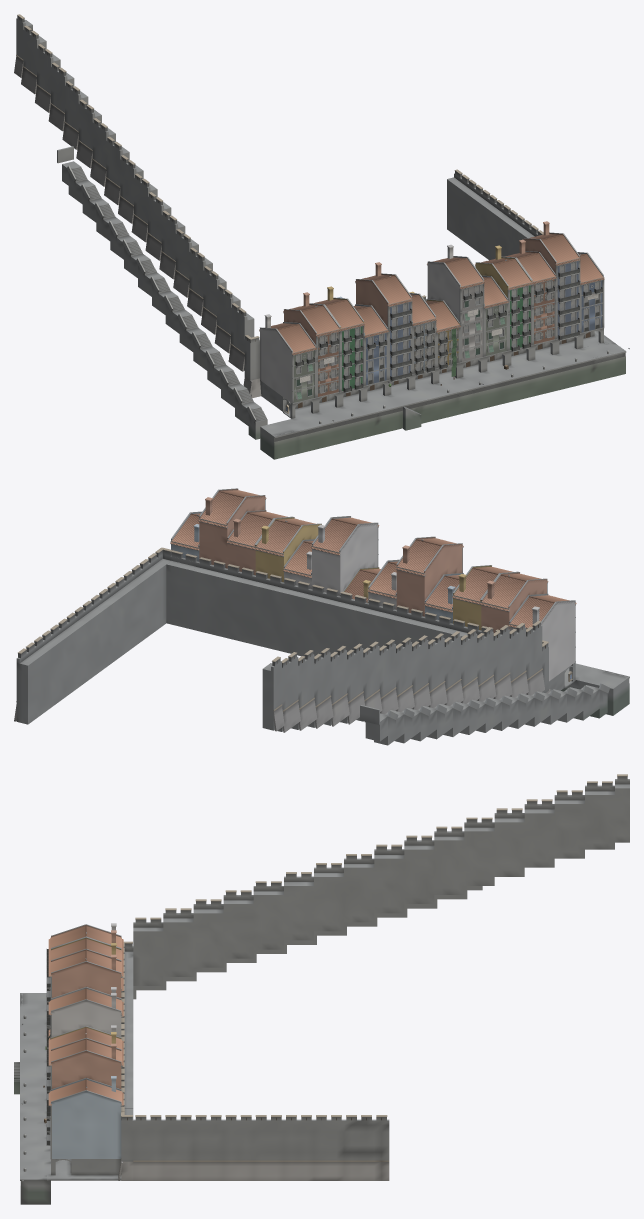
File: ribeira.glb
The picture shows the model from 3 angles, top to bottom: view 1: azimuth 30°, elevation 25°; view 2: azimuth 150°, elevation 25°; view 3: azimuth 270°, elevation 25°; orthographic projection. The views are drawn at different scales.
Visible parts, largest first — view 1: merged_ribeira_open_-6_-2, merged_ribeira_open_-6_-1, merged_ribeira_open_-6_-3, merged_ribeira_open_-4_-1, merged_ribeira_open_-5_-1, casa_b.001, merged_ribeira_open_-3_-2, casa_g.001, casa_c.001, merged_ribeira_open_-6_-4, casa_c.002, casa_a.002 (+9 smaller); view 2: merged_ribeira_open_-4_-1, merged_ribeira_open_-3_-2, merged_ribeira_open_-6_-2, merged_ribeira_open_-6_-3, merged_ribeira_open_-6_-4, merged_ribeira_open_-5_-1, merged_ribeira_open_-6_-1, casa_g.001, casa_c.001, casa_b.001, merged_ribeira_open_-3_-1, casa_c.002 (+11 smaller); view 3: merged_ribeira_open_-6_-2, merged_ribeira_open_-3_-2, merged_ribeira_open_-6_-3, merged_ribeira_open_-6_-4, merged_ribeira_open_-3_-1, casa_h.002, merged_ribeira_open_-6_-1, casa_c.002, casa_c.001, casa_g.001, merged_ribeira_open_-4_-1, merged_ribeira_open_-5_-1 (+4 smaller).
Boxes of the visible parts, <box> form: merged_ribeira_open_-6_-2: <box>131,173,226,334</box>; merged_ribeira_open_-6_-1: <box>214,284,338,459</box>; merged_ribeira_open_-6_-3: <box>62,81,143,223</box>; merged_ribeira_open_-4_-1: <box>426,298,594,412</box>; merged_ribeira_open_-5_-1: <box>324,295,466,443</box>; casa_b.001: <box>259,314,316,411</box>; merged_ribeira_open_-3_-2: <box>453,174,543,260</box>; casa_g.001: <box>427,244,484,370</box>; casa_c.001: <box>355,262,412,388</box>; merged_ribeira_open_-6_-4: <box>14,14,74,131</box>; casa_c.002: <box>523,221,580,347</box>; casa_a.002: <box>475,245,532,359</box>; merged_ribeira_open_-4_-1: <box>166,550,339,656</box>; merged_ribeira_open_-3_-2: <box>26,577,133,718</box>; merged_ribeira_open_-6_-2: <box>412,625,512,710</box>; merged_ribeira_open_-6_-3: <box>324,637,414,726</box>; merged_ribeira_open_-6_-4: <box>262,648,333,732</box>; merged_ribeira_open_-5_-1: <box>333,591,499,652</box>; merged_ribeira_open_-6_-1: <box>509,620,629,715</box>; casa_g.001: <box>311,516,379,595</box>; casa_c.001: <box>396,536,463,616</box>; casa_b.001: <box>508,593,576,690</box>; merged_ribeira_open_-3_-1: <box>123,547,172,646</box>; casa_c.002: <box>198,488,266,568</box>; merged_ribeira_open_-6_-2: <box>193,854,374,967</box>; merged_ribeira_open_-3_-2: <box>193,1115,374,1180</box>; merged_ribeira_open_-6_-3: <box>374,808,524,913</box>; merged_ribeira_open_-6_-4: <box>524,774,629,867</box>; merged_ribeira_open_-3_-1: <box>20,1111,193,1204</box>; casa_h.002: <box>46,1076,123,1175</box>; merged_ribeira_open_-6_-1: <box>20,908,193,1026</box>; casa_c.002: <box>46,1037,123,1145</box>; casa_c.001: <box>46,948,123,1011</box>; casa_g.001: <box>46,987,123,1040</box>; merged_ribeira_open_-4_-1: <box>20,1036,133,1162</box>; merged_ribeira_open_-5_-1: <box>20,960,133,1094</box>.
Size of the model in its own units: 89.63 by 56.2 by 123.
